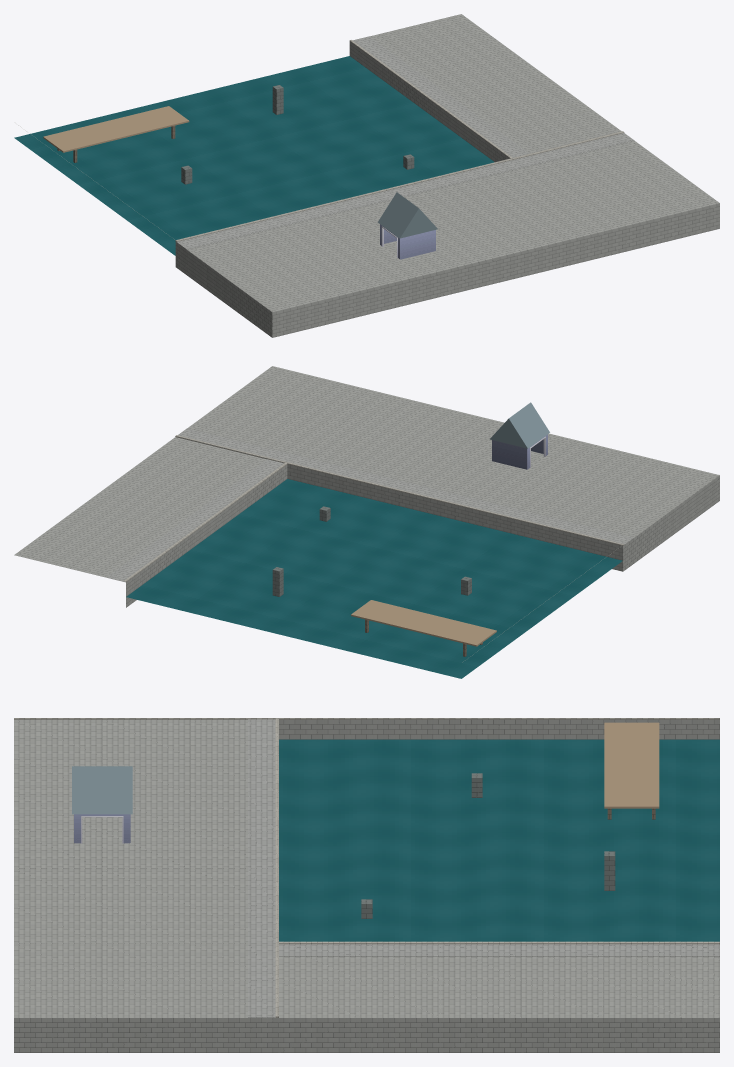
The model's file is canal-2-2.glb.
The picture shows the model from 3 angles, top to bottom: view 1: azimuth 30°, elevation 25°; view 2: azimuth 150°, elevation 25°; view 3: azimuth 270°, elevation 25°; orthographic projection. The views are drawn at different scales.
Visible parts, largest first — view 1: canal-2-2; view 2: canal-2-2; view 3: canal-2-2.
Part boxes in pixels (x1,y1,x2,y2): canal-2-2: (14,14,719,337); canal-2-2: (14,366,719,678); canal-2-2: (14,718,719,1052).
Size of the model in its own units: 128 by 20 by 128.
Materials: 14 (14 with a texture image).
